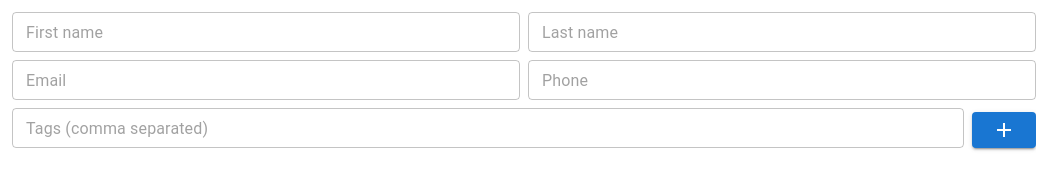
ContactForm › should show a validation error when required fields are missing
The image size is (1048, 189).
Click the button named "Add contact" at (1004, 130), box [972, 112, 1036, 148]
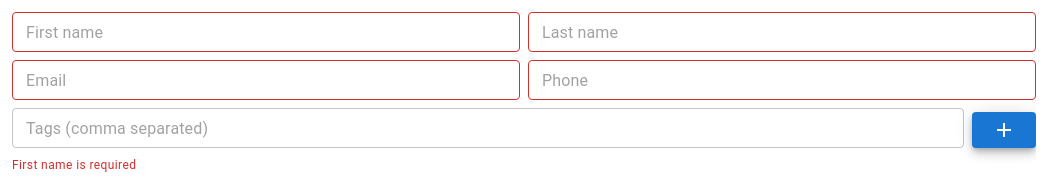
Result: the text "First name is required" is shown at [12, 158, 136, 172]
